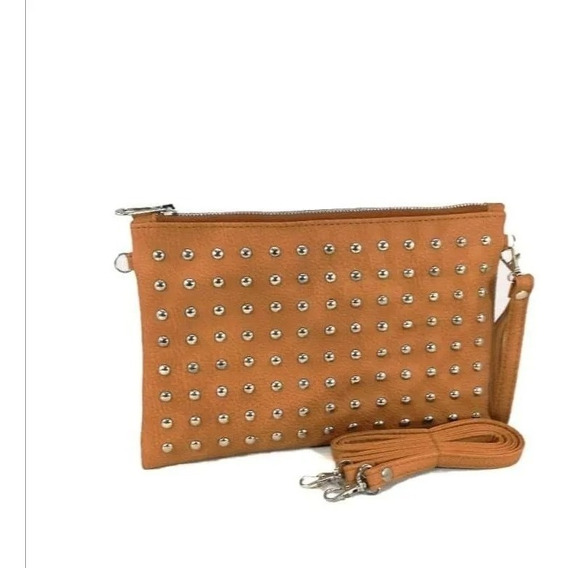cartera: (116, 203, 514, 473)
